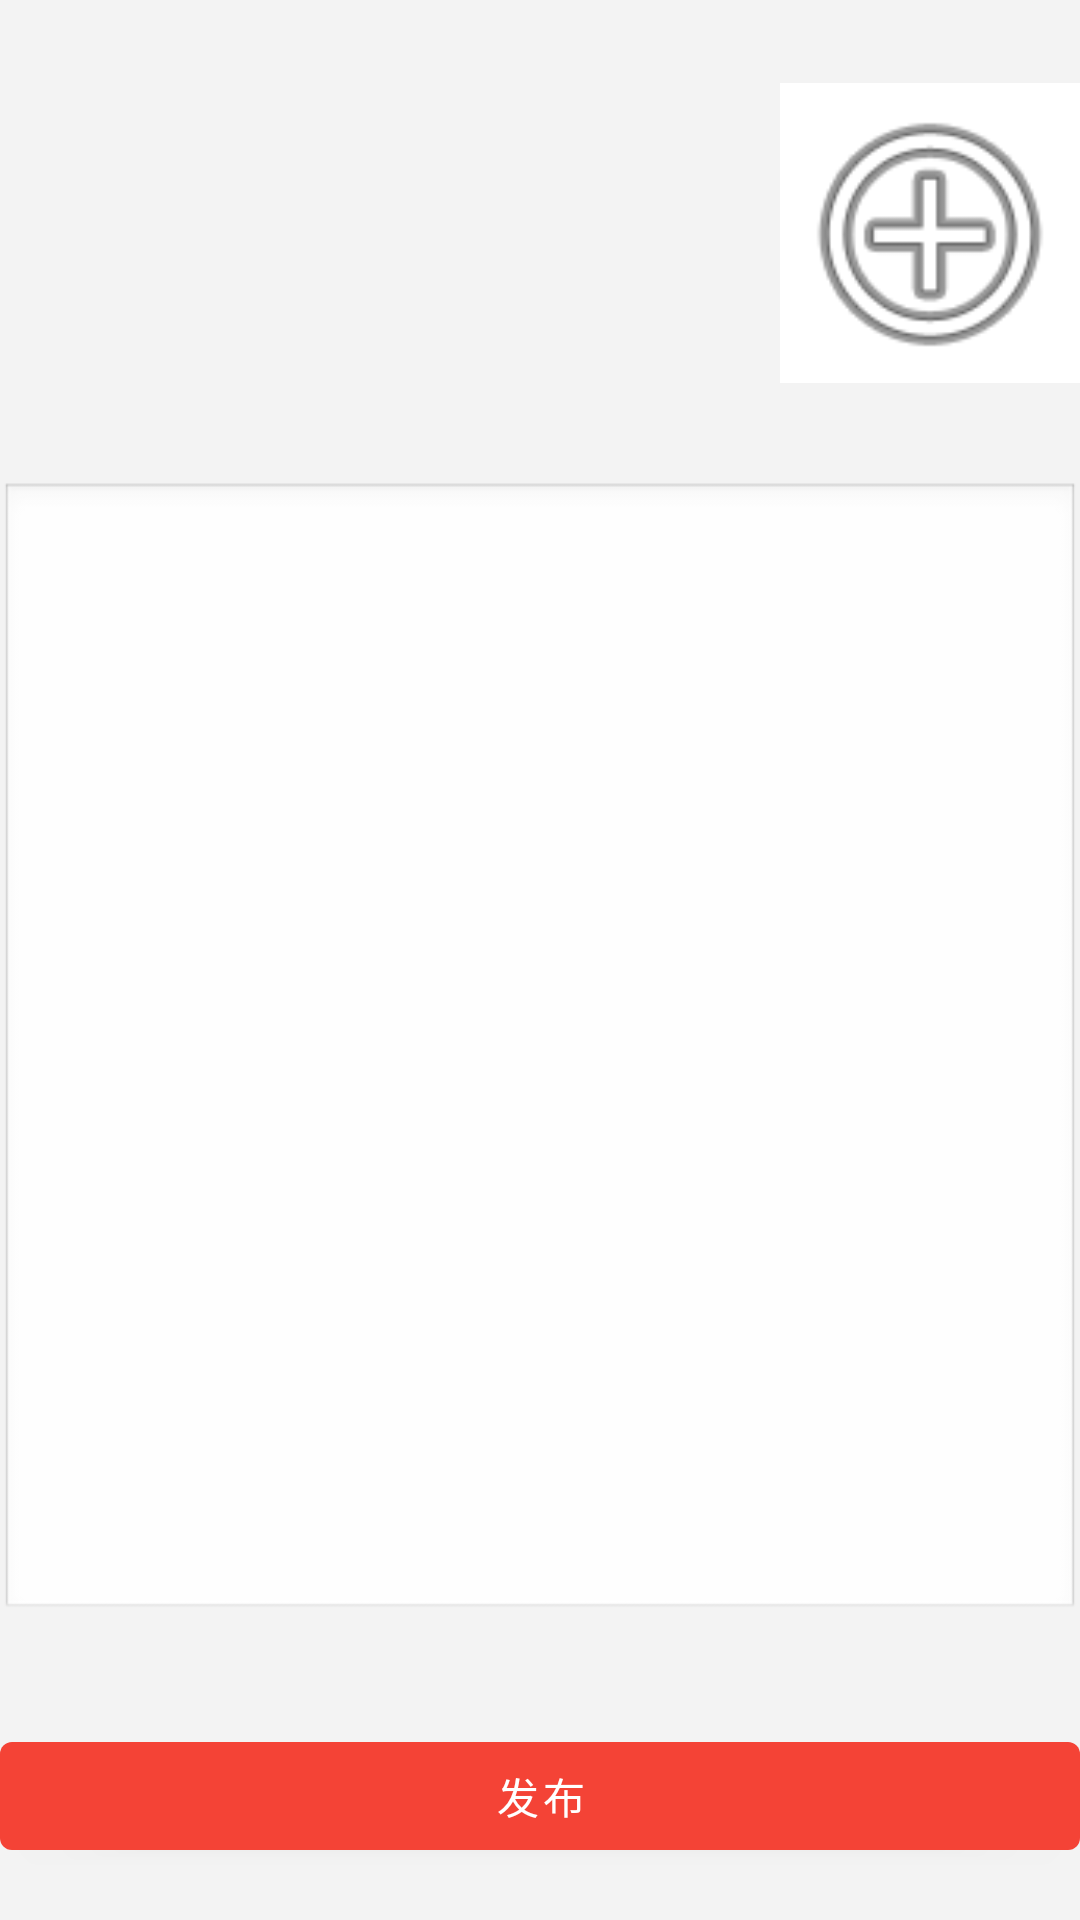

Where icons sit on this 1080×1920 app screen, as region(x1, y1, x2, y2):
add: region(780, 83, 1080, 383)
